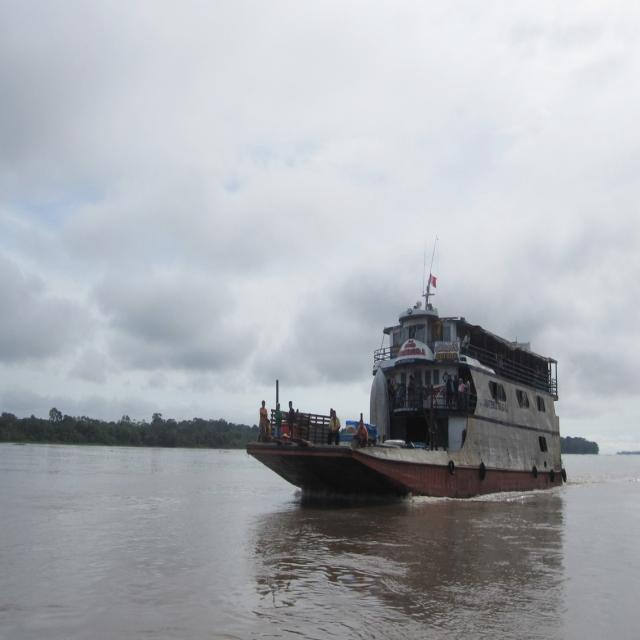houseboat: (249, 282, 566, 511)
